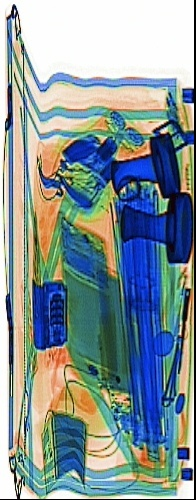powerbank: (39, 408, 91, 490)
